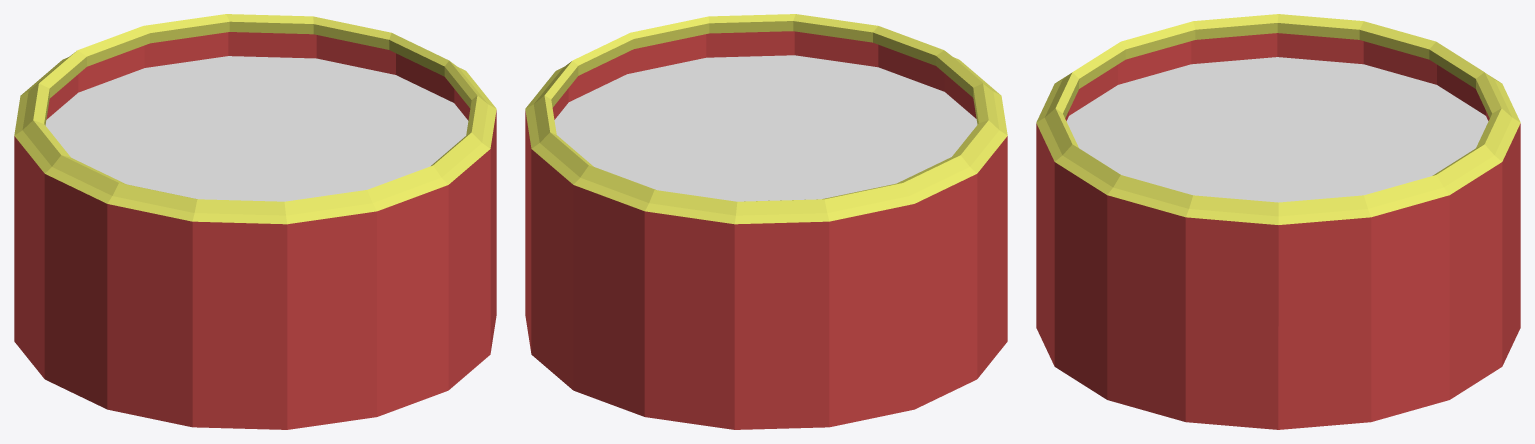
Rendered from Drum.fbx.
3 views of the same model, side by side, from view 1: azimuth 30°, elevation 25°; view 2: azimuth 150°, elevation 25°; view 3: azimuth 270°, elevation 25° (orthographic).
Visible parts, largest first — view 1: Cylinder; view 2: Cylinder; view 3: Cylinder.
Boxes of the visible parts, <box> form: Cylinder: <box>14,14,496,429</box>; Cylinder: <box>525,14,1007,429</box>; Cylinder: <box>1036,14,1520,429</box>.
Bounding box in the file's own units: 200 × 99.86 × 200.
